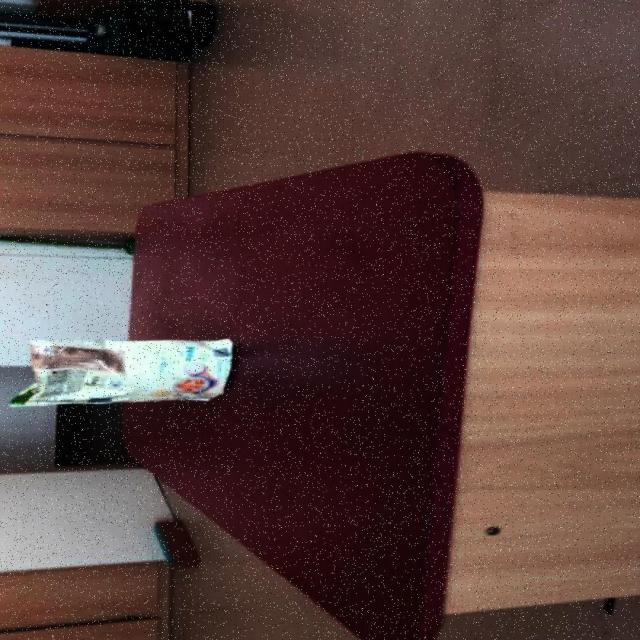CornFlakes: (10, 337, 237, 407)
